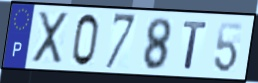0: (71, 12, 101, 67)
5: (212, 20, 245, 74)
7: (103, 11, 139, 71)
8: (143, 16, 173, 71)
T: (181, 19, 209, 72)
X: (31, 10, 70, 66)
